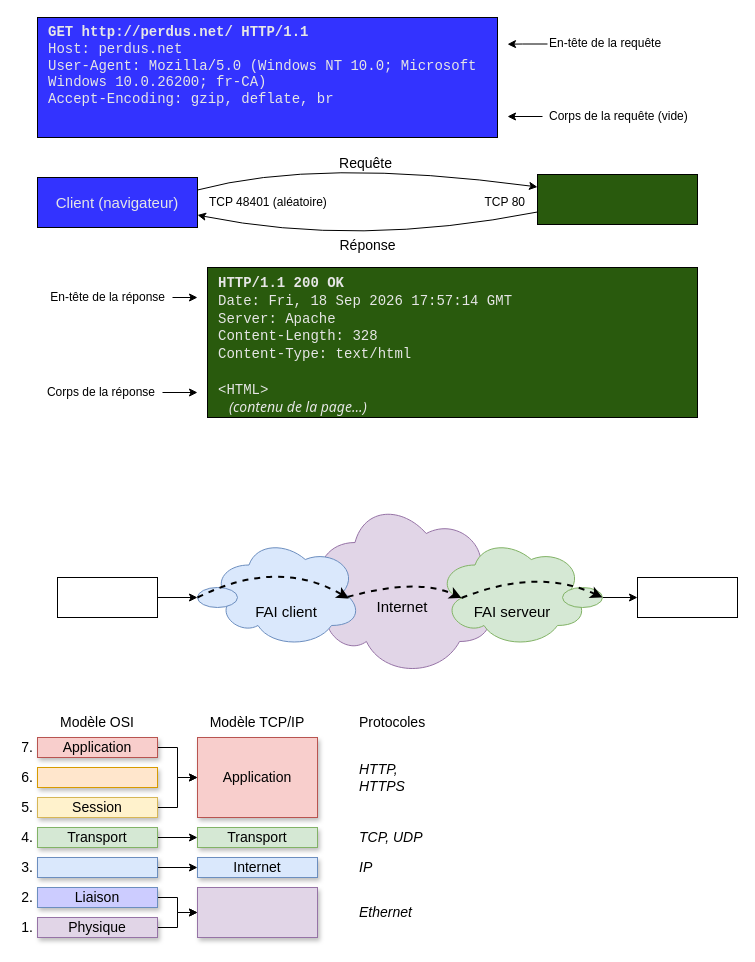
Some shapes in this 755 by 962 pixel diagram are drawn without their labels. The shapes that lost their labels are listed below. From the top down, each one's centre as x and y in pixels, then its label:
At (x=617, y=199): "Serveur (apache)".
At (x=107, y=597): "Navigateur".
At (x=687, y=597): "Serveur Web".
At (x=98, y=778): "Présentation".
At (x=98, y=868): "Réseau".
At (x=258, y=913): "Accès au réseau".
